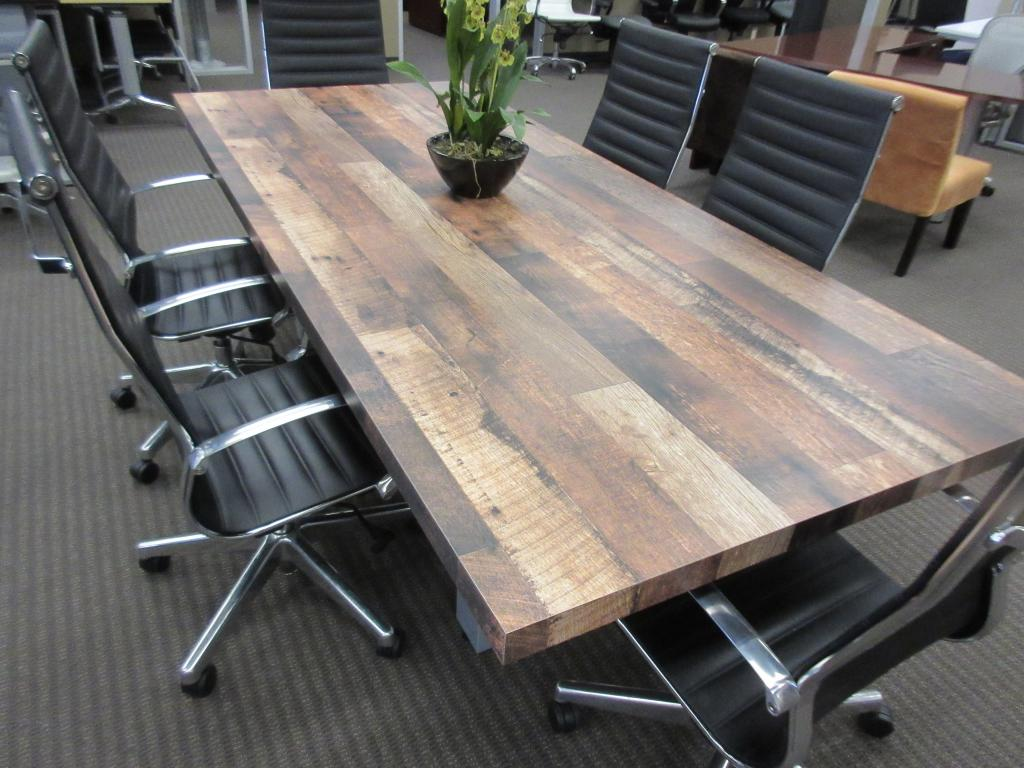conference_table: (173, 81, 1024, 665)
